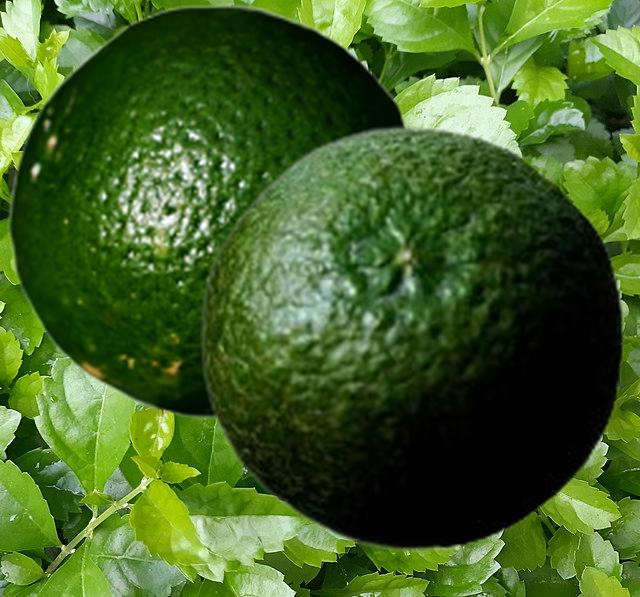calamansi: (199, 124, 623, 551), (7, 3, 411, 418)
